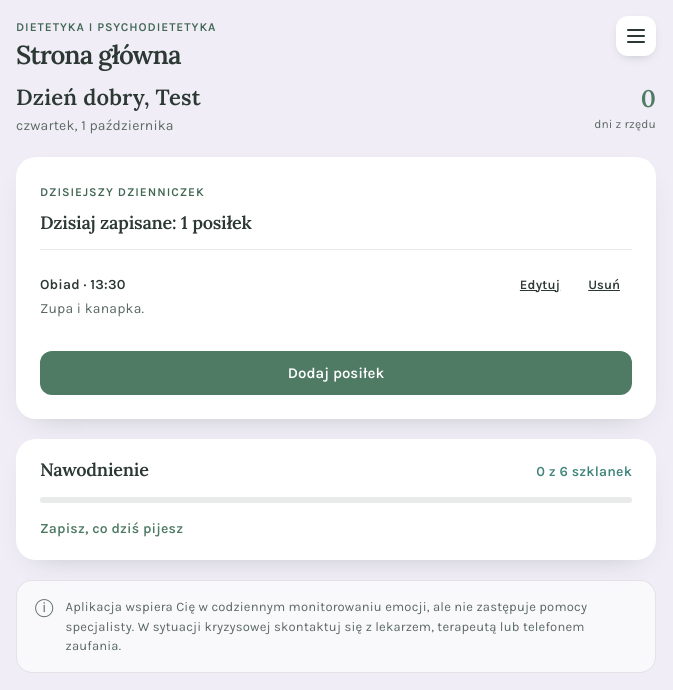
Scenario: today's meals are on the screen and can be corrected › can be talked out of it
Step 1. Click the button "Usuń" → click(604, 284), box 576,262 -> 632,306
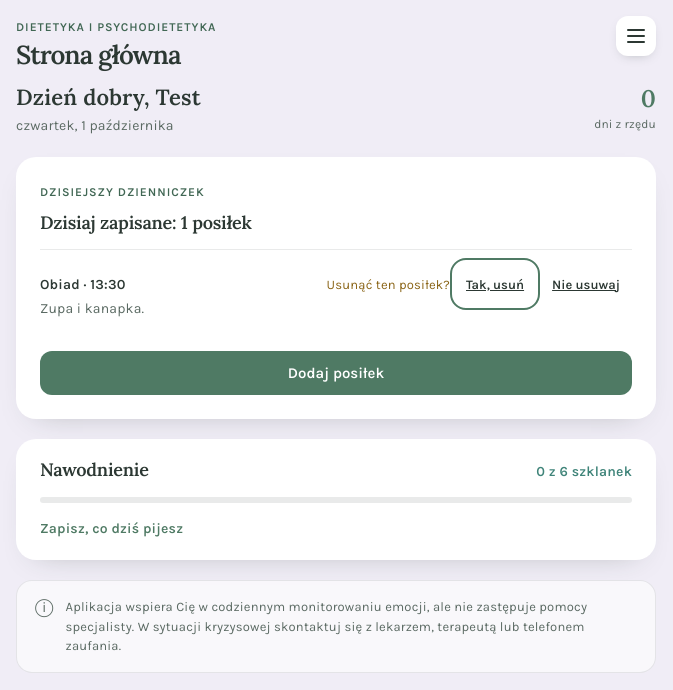
Step 2. Click the button "Nie usuwaj" → click(586, 284), box 540,262 -> 632,306
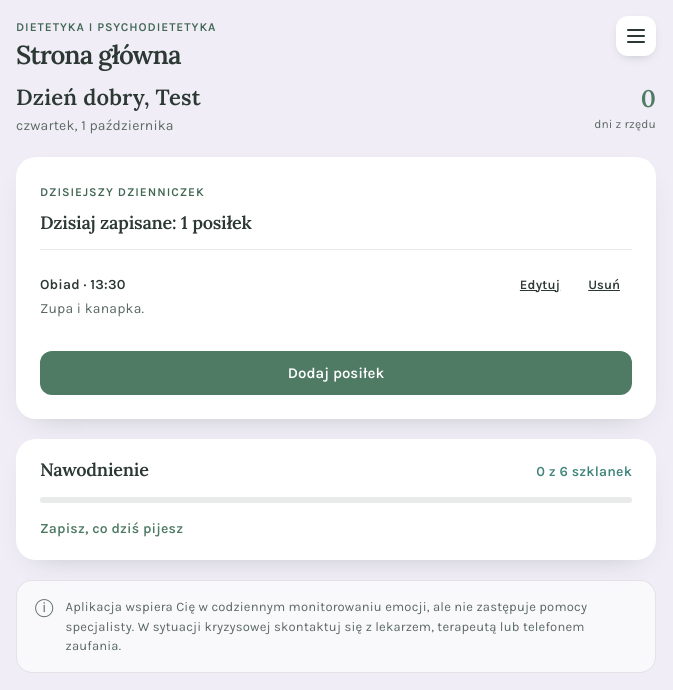
Check: the text "Usunąć ten posiłek?" is gone
